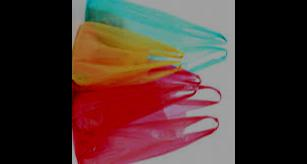Plastic: (72, 63, 218, 163), (72, 0, 230, 80), (72, 60, 198, 134), (72, 20, 193, 88)
